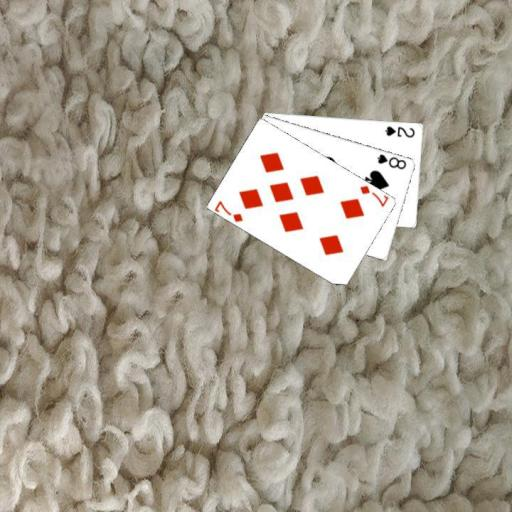2S: (382, 123, 416, 139)
7D: (357, 182, 390, 208), (212, 198, 245, 223)
8S: (374, 151, 408, 171)
